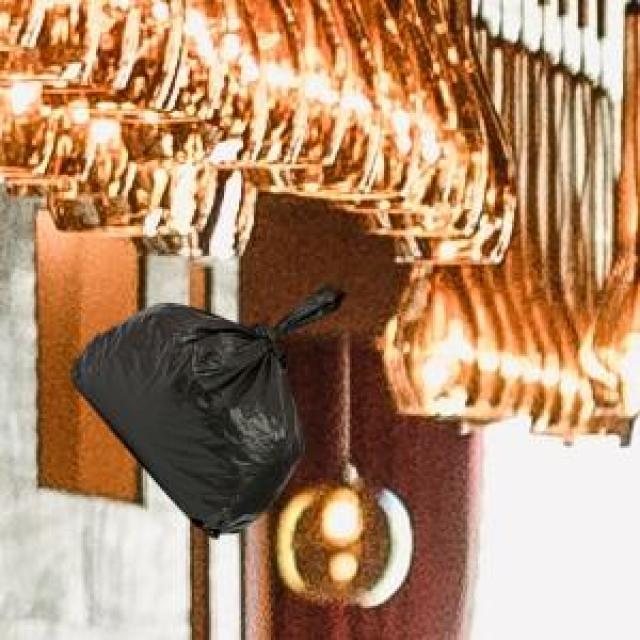garbage_bag: (66, 280, 346, 538)
